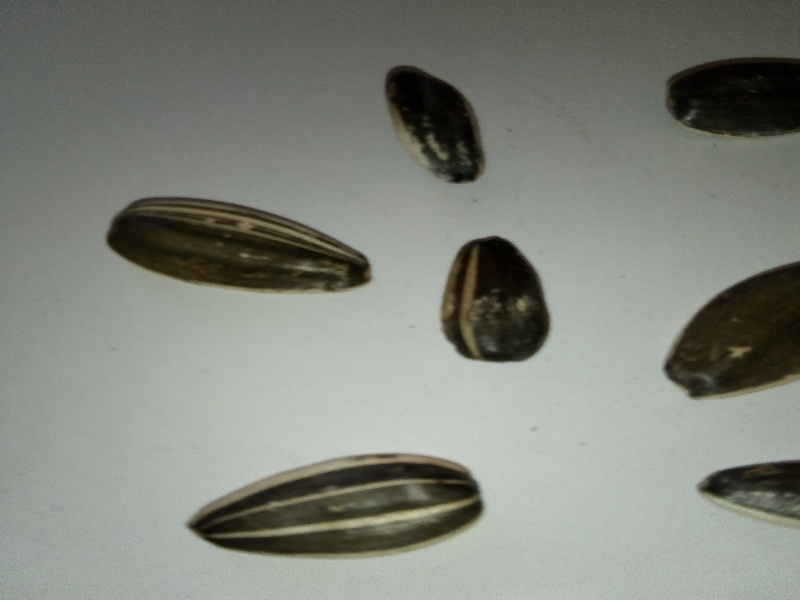girasol: (178, 442, 492, 568), (95, 190, 378, 304), (431, 227, 560, 368), (372, 60, 499, 195)
